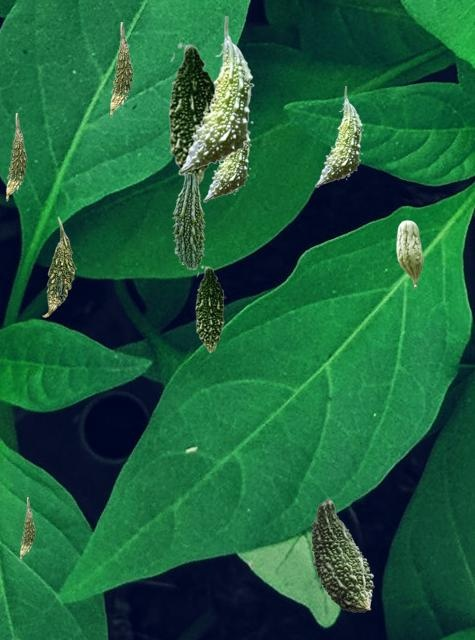ampalaya: (178, 16, 253, 174), (311, 498, 373, 611), (168, 42, 214, 184), (315, 86, 362, 186), (42, 216, 75, 316), (203, 135, 250, 201), (172, 174, 204, 268), (195, 265, 225, 352), (110, 22, 132, 116), (396, 220, 422, 288), (6, 113, 26, 200), (20, 497, 34, 559)
